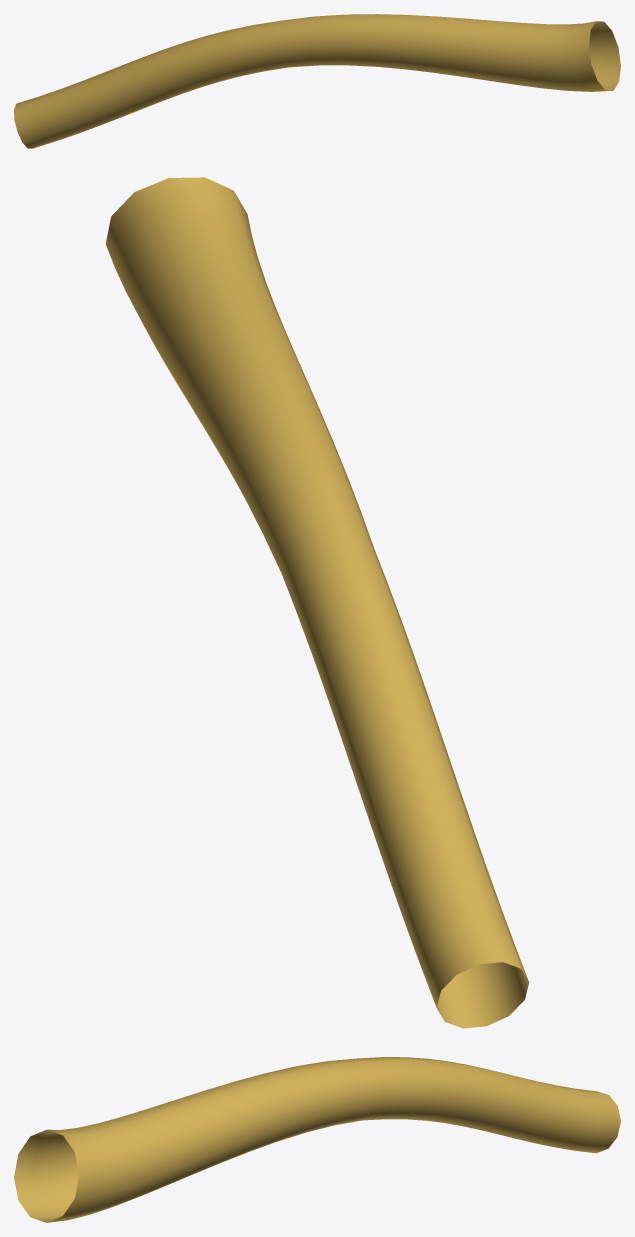
The picture shows the model from 3 angles, top to bottom: view 1: azimuth 30°, elevation 25°; view 2: azimuth 150°, elevation 25°; view 3: azimuth 270°, elevation 25°; orthographic projection. The views are drawn at different scales.
Visible parts, largest first — view 1: 右侧臂丛下干前股; view 2: 右侧臂丛下干前股; view 3: 右侧臂丛下干前股.
Boxes of the visible parts, box(x1,y1,x2,y2) form: 右侧臂丛下干前股: box(14, 14, 620, 148); 右侧臂丛下干前股: box(105, 177, 529, 1028); 右侧臂丛下干前股: box(14, 1057, 620, 1222).
Size of the model in its own units: 0.0286 by 0.0126 by 0.0287.
